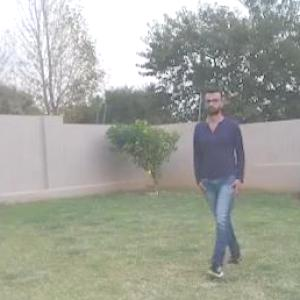follow: (199, 92, 245, 251)
